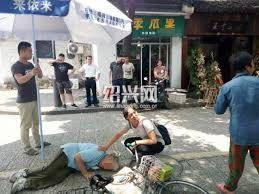Fall-Detected: (4, 135, 124, 192)
